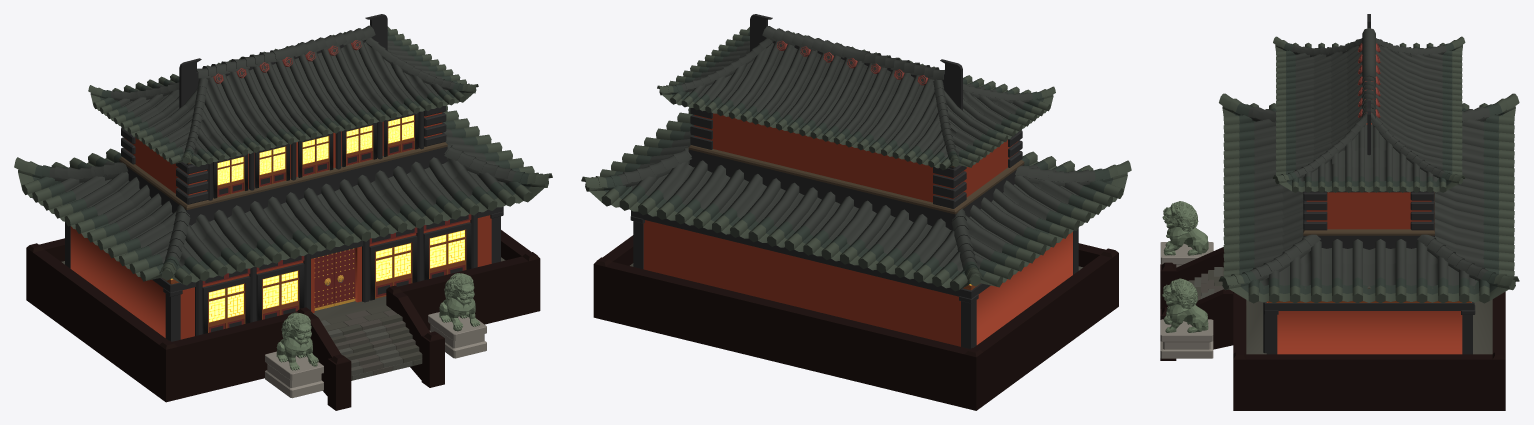
Rendered from chinese_temple.glb.
3 views of the same model, side by side, from view 1: azimuth 30°, elevation 25°; view 2: azimuth 150°, elevation 25°; view 3: azimuth 270°, elevation 25° (orthographic). The views are drawn at different scales.
Visible parts, largest first — view 1: MainTempleRoof, MainTemple, MainTempleWindows, LionLeft, LionRight; view 2: MainTemple, MainTempleRoof; view 3: MainTempleRoof, MainTemple, LionRight, LionLeft.
Boxes of the visible parts, x1,y1,x2,y2 form: MainTempleRoof: (14, 14, 552, 285); MainTemple: (26, 106, 540, 410); MainTempleWindows: (202, 113, 471, 333); LionLeft: (265, 312, 323, 398); LionRight: (428, 273, 486, 358); MainTemple: (593, 108, 1118, 410); MainTempleRoof: (581, 14, 1131, 291); MainTempleRoof: (1219, 14, 1519, 303); MainTemple: (1160, 123, 1505, 410); LionRight: (1160, 278, 1213, 358); LionLeft: (1160, 201, 1213, 267).
Size of what is drawn, in the model's own units: 2151 by 1442 by 1714.
21 materials, 1 textured.
